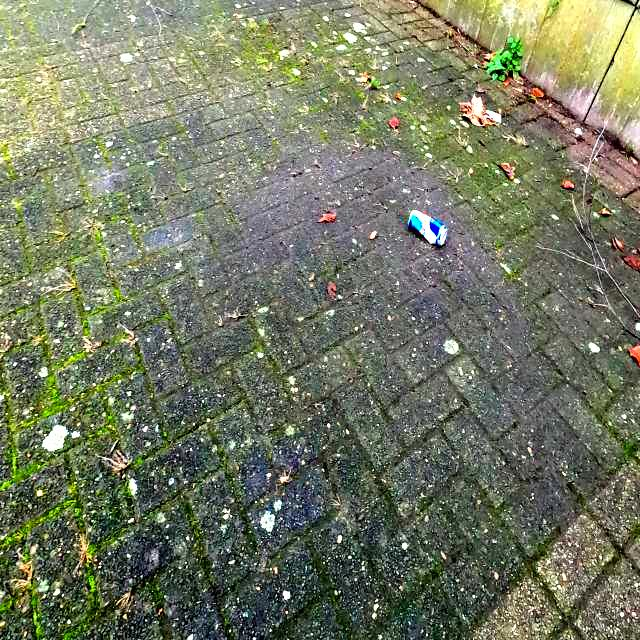Metal: (407, 208, 449, 246)
